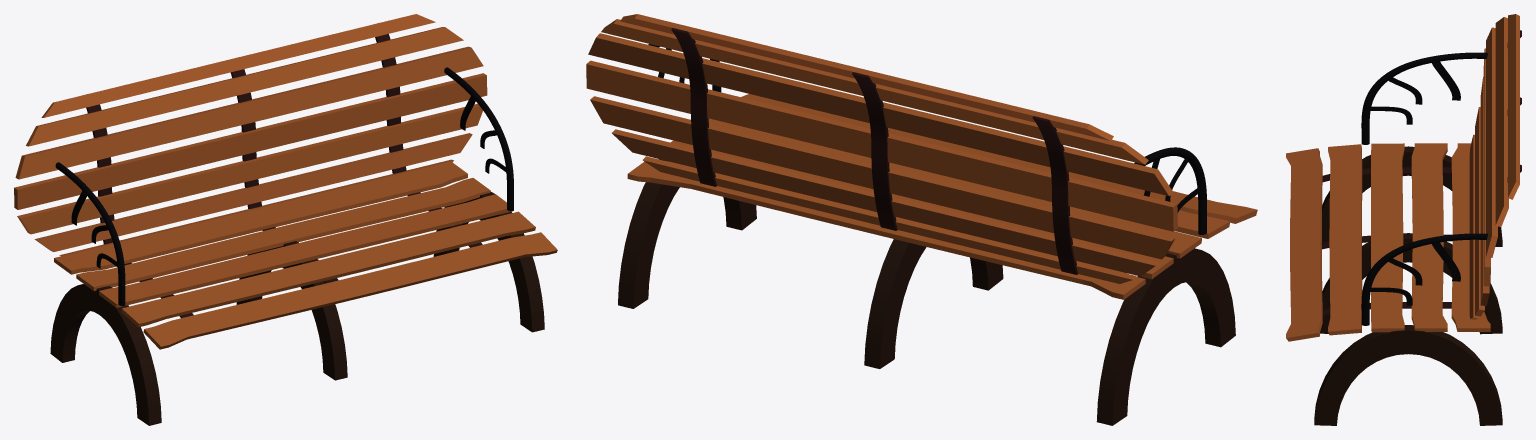
Rendered from banquita madera.obj.
The picture shows the model from 3 angles, left to right: view 1: azimuth 30°, elevation 25°; view 2: azimuth 150°, elevation 25°; view 3: azimuth 270°, elevation 25°; orthographic projection. The views are drawn at different scales.
Parts seen in each view (by area): view 1: BenchBack, polySurface2.001, BenchLeg3, BenchLeg1, BenchLeg2, Handle1, Handle2, BenchBackHolder2, BenchBackHolder4, BenchBackHolder3; view 2: BenchBack, polySurface2.001, BenchLeg3, BenchLeg2, BenchLeg1, BenchBackHolder2, BenchBackHolder4, BenchBackHolder3, Handle1; view 3: polySurface2.001, BenchBack, BenchLeg1, Handle2, Handle1, BenchLeg2, BenchLeg3, polySurface10.
Part boxes in pixels (x1,y1,x2,y2): BenchBack: [14, 14, 487, 262]; polySurface2.001: [54, 162, 557, 349]; BenchLeg3: [50, 284, 161, 425]; BenchLeg1: [433, 191, 544, 332]; BenchLeg2: [236, 241, 347, 380]; Handle1: [55, 162, 125, 306]; Handle2: [444, 67, 513, 211]; BenchBackHolder2: [230, 69, 261, 208]; BenchBackHolder4: [375, 34, 406, 173]; BenchBackHolder3: [86, 104, 114, 244]; BenchBack: [586, 14, 1177, 283]; polySurface2.001: [627, 94, 1257, 299]; BenchLeg3: [1096, 248, 1235, 425]; BenchLeg2: [864, 239, 1003, 368]; BenchLeg1: [618, 159, 756, 308]; BenchBackHolder2: [852, 72, 897, 230]; BenchBackHolder4: [671, 28, 716, 186]; BenchBackHolder3: [1032, 116, 1078, 274]; Handle1: [1134, 147, 1206, 234]; polySurface2.001: [1286, 143, 1490, 341]; BenchBack: [1469, 14, 1519, 319]; BenchLeg1: [1314, 325, 1502, 425]; Handle2: [1361, 233, 1487, 325]; Handle1: [1361, 52, 1487, 144]; BenchLeg2: [1320, 233, 1502, 334]; BenchLeg3: [1322, 146, 1502, 246]; polySurface10: [1322, 167, 1451, 182].
Size of the model in its own units: 3 by 1.49 by 1.37.
